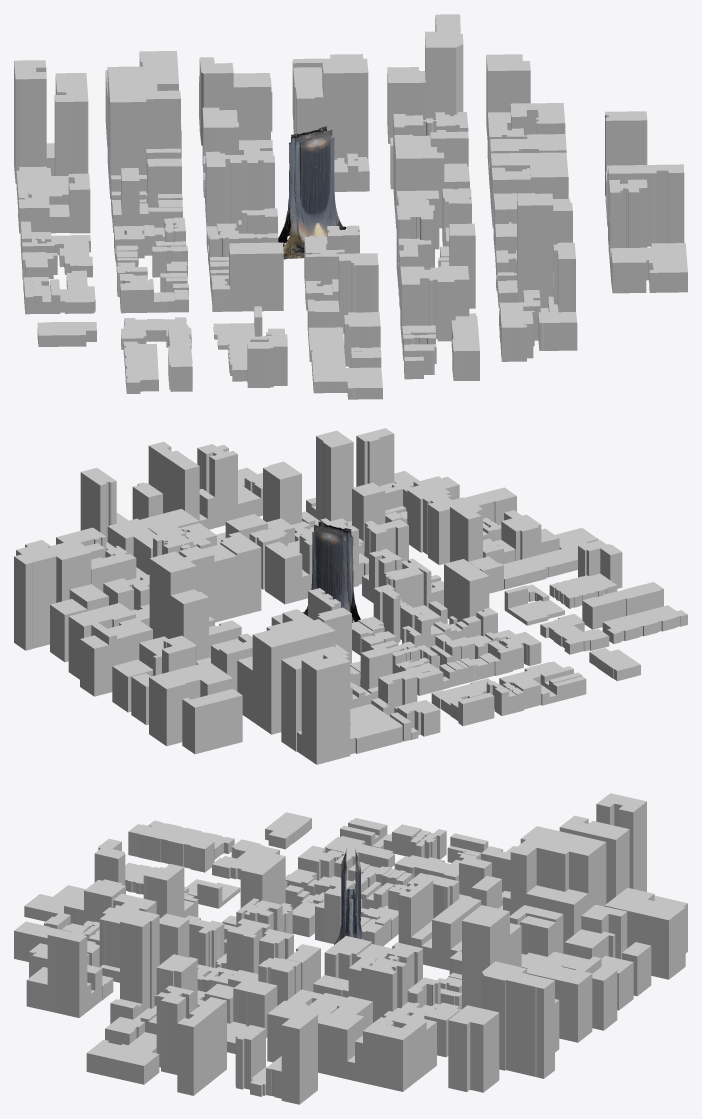
3 views of the same model, one above another, from view 1: azimuth 30°, elevation 25°; view 2: azimuth 150°, elevation 25°; view 3: azimuth 270°, elevation 25° (orthographic). The views are drawn at different scales.
Parts seen in each view (by area): view 1: world, example_image.glb; view 2: world, example_image.glb; view 3: world, example_image.glb.
Boxes of the visible parts, x1=… form: world: x1=14, y1=14, x2=687, y2=399; example_image.glb: x1=278, y1=126, x2=346, y2=259; world: x1=14, y1=428, x2=687, y2=764; example_image.glb: x1=302, y1=521, x2=360, y2=622; world: x1=14, y1=793, x2=687, y2=1104; example_image.glb: x1=334, y1=848, x2=364, y2=944.
Size of the model in its own units: 5636 by 1003 by 5698.
1 material, 1 textured.
